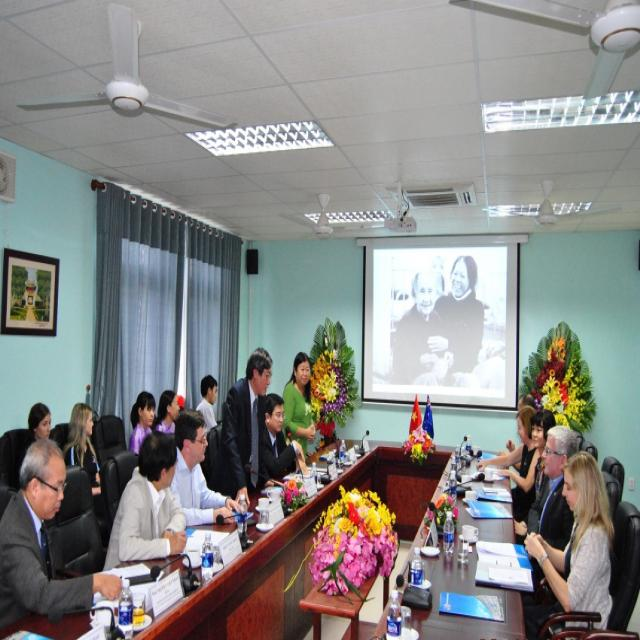body: (0, 436, 124, 628), (522, 449, 616, 640), (389, 245, 487, 385), (98, 429, 186, 578), (520, 423, 580, 640), (216, 345, 276, 506), (171, 406, 245, 527), (474, 403, 543, 521), (494, 407, 558, 525), (280, 350, 318, 475), (260, 392, 311, 483), (504, 390, 546, 488), (61, 402, 103, 496), (126, 389, 156, 456), (14, 400, 53, 444), (194, 374, 219, 434), (155, 384, 181, 434)
